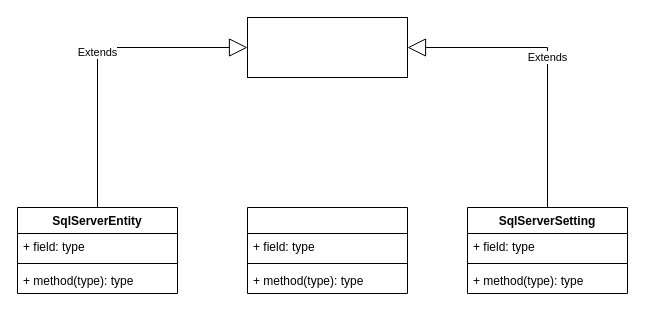
Some shapes in this 645 by 314 pixel diagram are drawn without their labels. The box of each missing label's shape, as (x1, y1, x2, y2) in pixels:
Mon Behaviour: (246, 16, 408, 78)
SqlServerManager: (246, 206, 408, 294)
